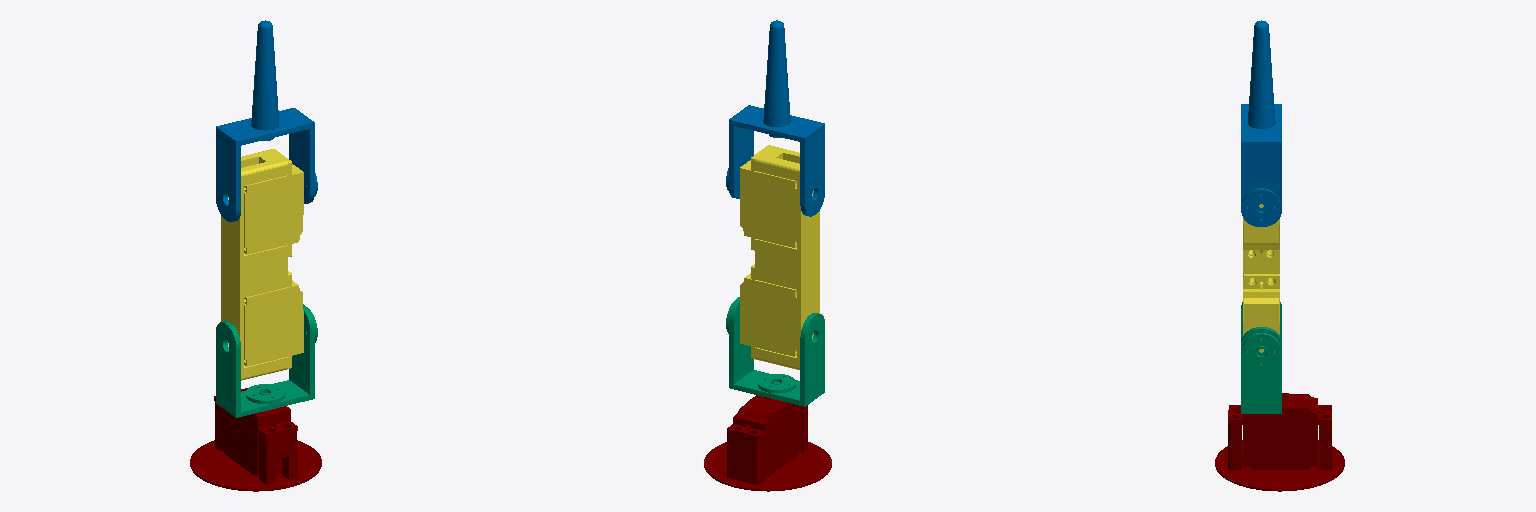
URDF robot description (my_arm):
<?xml version="1.0"?>
<robot name="my_arm">
    <link name="world"/>
    <link name="base_link">
        <visual>
            <geometry>
                <mesh filename="package://robot_arm_stl/base_link.stl"/>
            </geometry>
            <material name="red">
                <color rgba="0.5 0 0 1"/>
            </material>
        </visual>
    </link>

    <joint name="fixed" type="fixed">
        <parent link="world"/>
        <child  link="base_link"/>
    </joint>
    <link name="link1">
        <visual>
            <geometry>
                <mesh filename="package://robot_arm_stl/link1.stl"/>
            </geometry>
            <materilal name="red"/>
        </visual>
    </link>
            
    <joint name="join1" type="revolute">
        <axis xyz="0 0 1"/>
        <parent link="base_link"/>
        <child  link="link1"/>
        <origin rpy="0 0 0" xyz="0.0 0.0 0.0437"/>
        <limit lower="-1.5708" upper="1.5708" effort="0.32" velocity="4.56"/>
    </joint>

    <link name="link2">
        <visual>
            <geometry>
                <mesh filename="package://robot_arm_stl/link2.stl"/>
            </geometry>
            <materilal name="red"/>
        </visual>
    </link>
            
    <joint name="join2" type="revolute">
        <axis xyz="1 0 0"/>
        <parent link="link1"/>
        <child  link="link2"/>
        <origin rpy="0 0 0" xyz="0.0 0.0 0.035"/>
        <limit lower="-1.5708" upper="1.5708" effort="0.32" velocity="4.56"/>
    </joint>

    <link name="link3">
        <visual>
            <geometry>
                <mesh filename="package://robot_arm_stl/link3.stl"/>
            </geometry>
            <materilal name="red"/>
        </visual>
    </link>
            
    <joint name="join3" type="revolute">
        <axis xyz="1 0 0"/>
        <parent link="link2"/>
        <child  link="link3"/>
        <origin rpy="0 0 0" xyz="0.0 0.0 0.085799"/>
        <limit lower="-1.5708" upper="1.5708" effort="0.32" velocity="4.56"/>
    </joint>
</robot>

--- Facts derived from the render (not from the file) ---
Views: 3 orthographic renders of the robot side by side, from view 1: azimuth 30°, elevation 25°; view 2: azimuth 150°, elevation 25°; view 3: azimuth 270°, elevation 25°.
Robot: my_arm — 5 links, 4 joints (3 revolute, 1 fixed); root link world; default pose: all joints at 0.
Links seen in each view (by area): view 1: link2, base_link, link3, link1; view 2: link2, base_link, link3, link1; view 3: base_link, link3, link2, link1.
Link boxes in pixels (x1=…): link2: x1=221, y1=149, x2=303, y2=380; base_link: x1=190, y1=388, x2=321, y2=491; link3: x1=216, y1=20, x2=317, y2=221; link1: x1=216, y1=304, x2=317, y2=417; link2: x1=740, y1=145, x2=819, y2=369; base_link: x1=704, y1=395, x2=831, y2=491; link3: x1=726, y1=20, x2=824, y2=216; link1: x1=726, y1=297, x2=824, y2=406; base_link: x1=1215, y1=393, x2=1344, y2=491; link3: x1=1241, y1=20, x2=1281, y2=226; link2: x1=1243, y1=204, x2=1279, y2=352; link1: x1=1241, y1=302, x2=1281, y2=413.
Bounding box of the posed robot: 0.07 × 0.07 × 0.2625 m (x, y, z).
4 mesh visuals loaded from 4 distinct referenced files (4 binary STL).